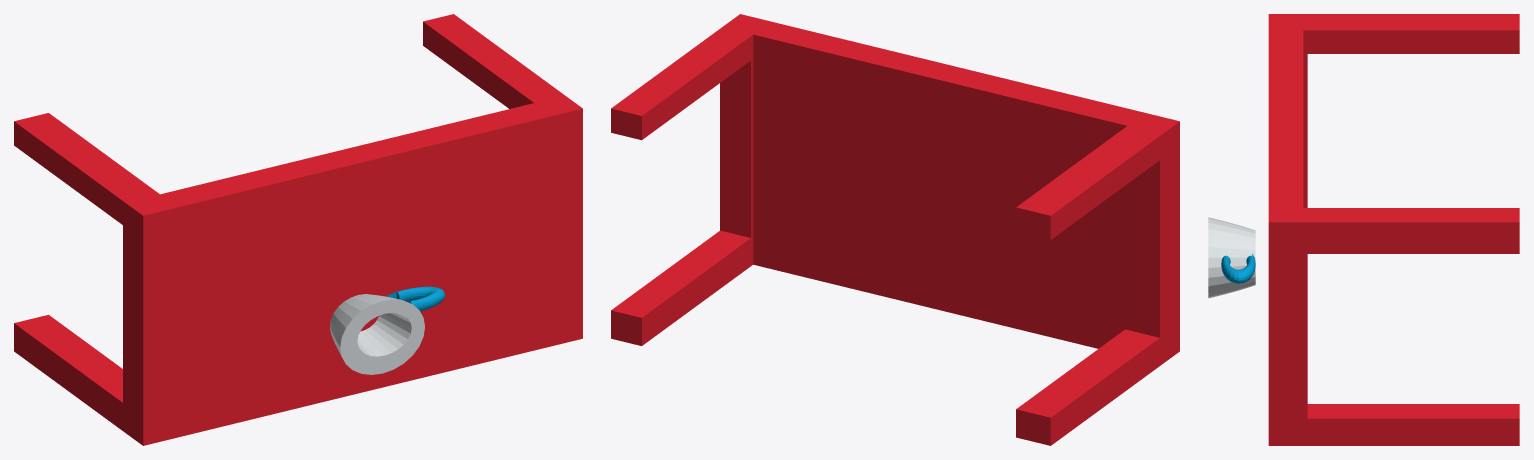
Rendered from tinker.obj.
3 renders of one model, left to right at view 1: azimuth 30°, elevation 25°; view 2: azimuth 150°, elevation 25°; view 3: azimuth 270°, elevation 25°, orthographic. The views are drawn at different scales.
Parts seen in each view (by area): view 1: group_0_15277357, group_0_14541540, group_0_40919; view 2: group_0_15277357; view 3: group_0_15277357, group_0_14541540, group_0_40919.
Boxes of the visible parts, x1,y1,x2,y2 form: group_0_15277357: (14,14,582,445); group_0_14541540: (329,294,424,374); group_0_40919: (387,286,445,311); group_0_15277357: (611,14,1179,445); group_0_15277357: (1268,14,1519,445); group_0_14541540: (1208,217,1255,298); group_0_40919: (1221,253,1255,283).
Size of the model in its own units: 114 by 57 by 72.
